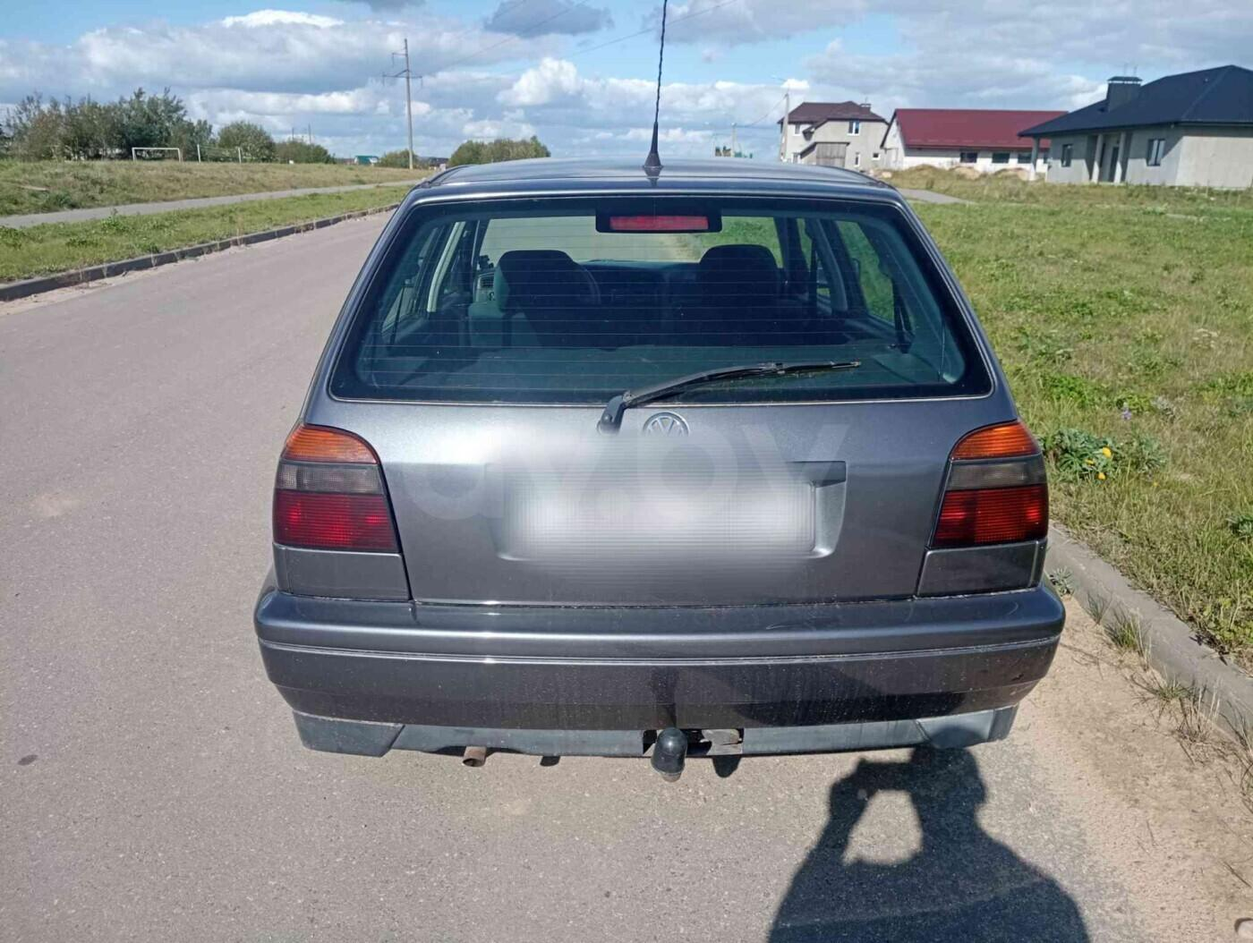Golf_1991-2000: (242, 144, 1072, 773)
